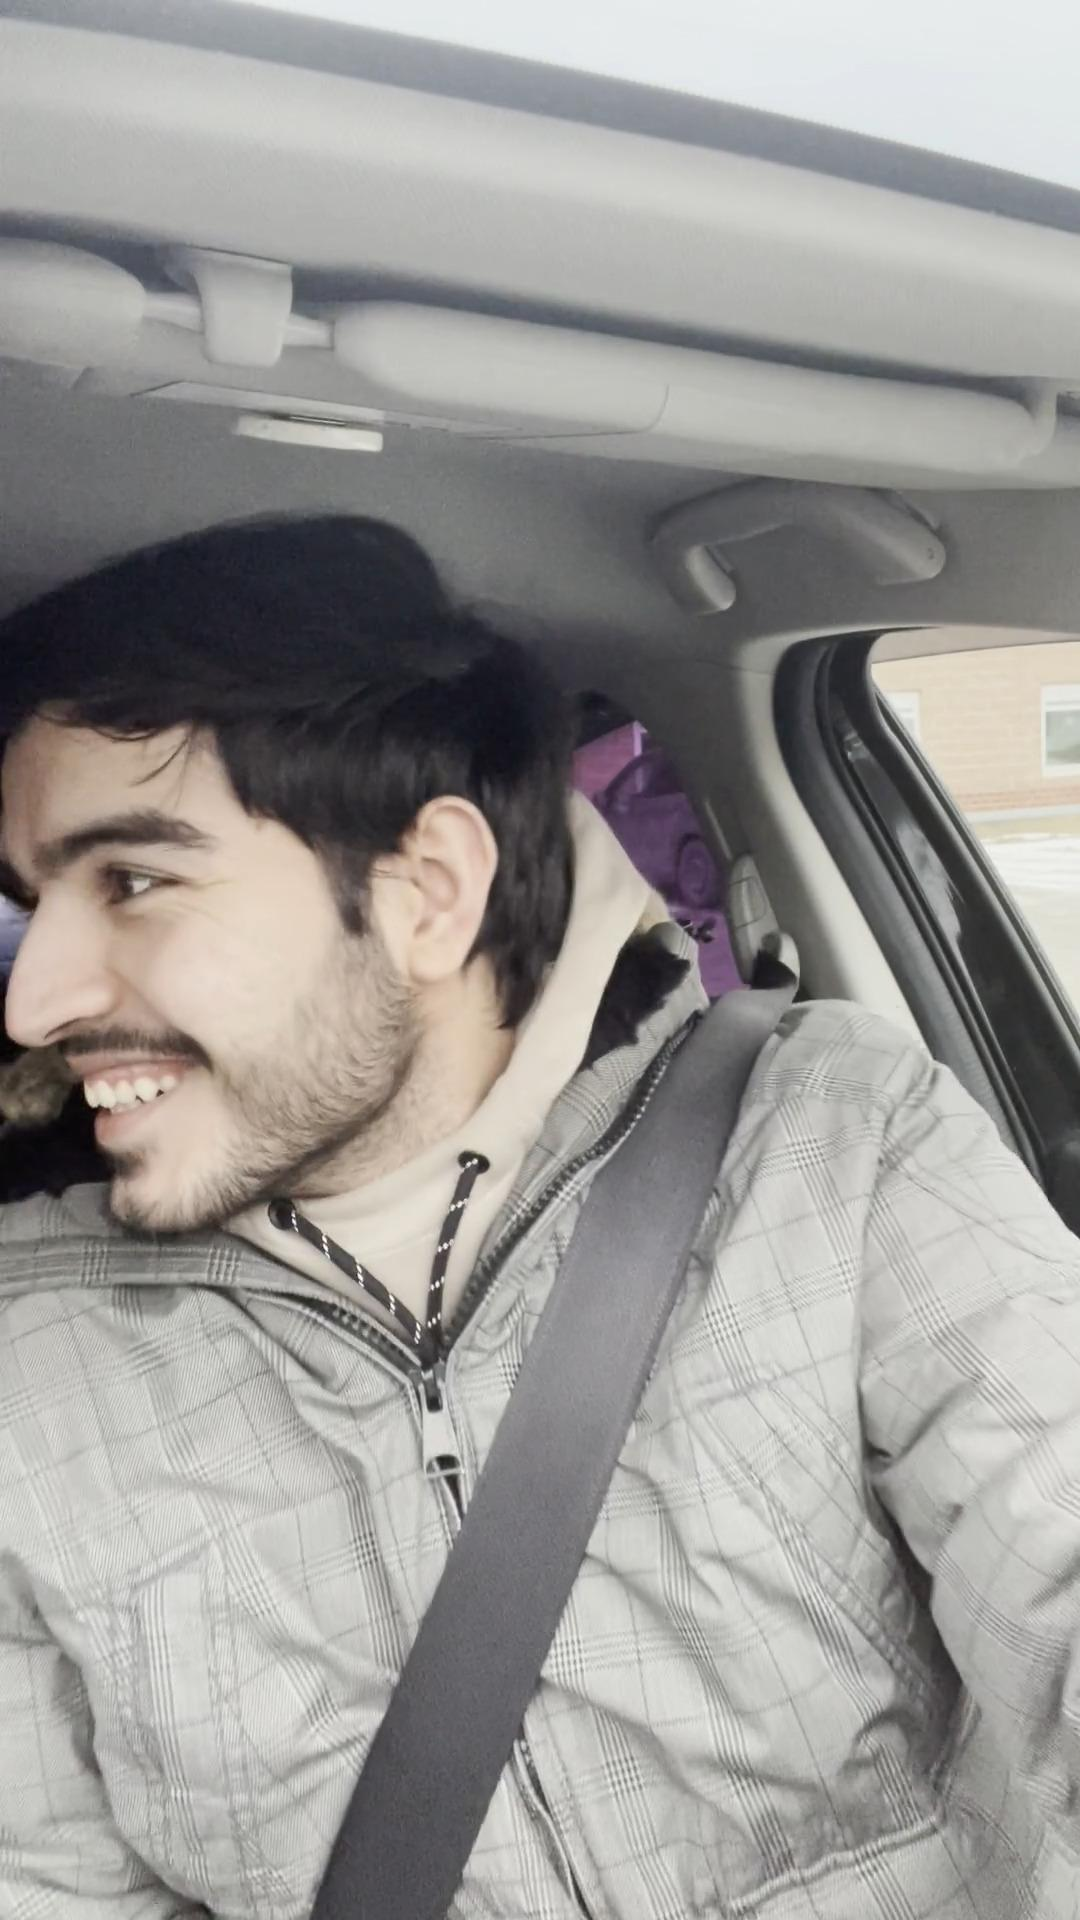inattentive: (15, 575, 605, 1265)
